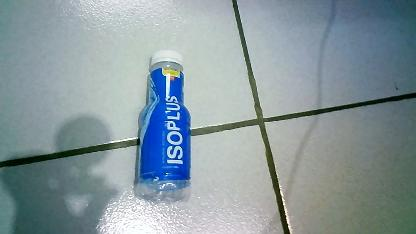Plastic Bottle: (136, 48, 198, 192)
